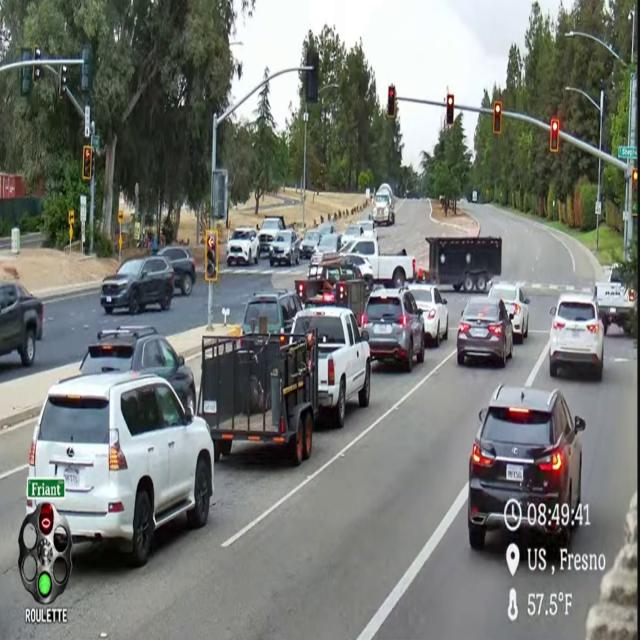car: (28, 372, 213, 566), (468, 385, 585, 550), (80, 326, 196, 414), (360, 288, 424, 371), (549, 293, 603, 380), (101, 256, 174, 314), (457, 296, 513, 367), (242, 290, 302, 343), (488, 282, 529, 343), (408, 283, 448, 345), (158, 246, 195, 295), (227, 227, 260, 265), (269, 230, 299, 266), (343, 255, 373, 290), (314, 233, 342, 255), (300, 229, 321, 258), (342, 224, 364, 244), (360, 221, 377, 239), (317, 222, 337, 235), (361, 210, 372, 223)
traffic signal: (306, 49, 319, 103), (205, 230, 218, 282), (39, 503, 54, 536), (81, 45, 91, 93), (82, 145, 94, 181), (21, 66, 32, 95), (550, 118, 559, 152), (387, 85, 396, 119), (493, 101, 502, 135), (59, 65, 67, 99), (446, 94, 454, 126), (32, 65, 41, 81), (632, 168, 637, 187)
truck: (197, 332, 318, 466), (293, 307, 370, 428), (417, 237, 501, 293), (0, 282, 43, 367), (344, 238, 416, 287), (295, 279, 367, 324), (594, 264, 636, 334), (308, 253, 372, 288), (258, 216, 285, 255), (372, 184, 394, 225), (472, 191, 477, 203)
